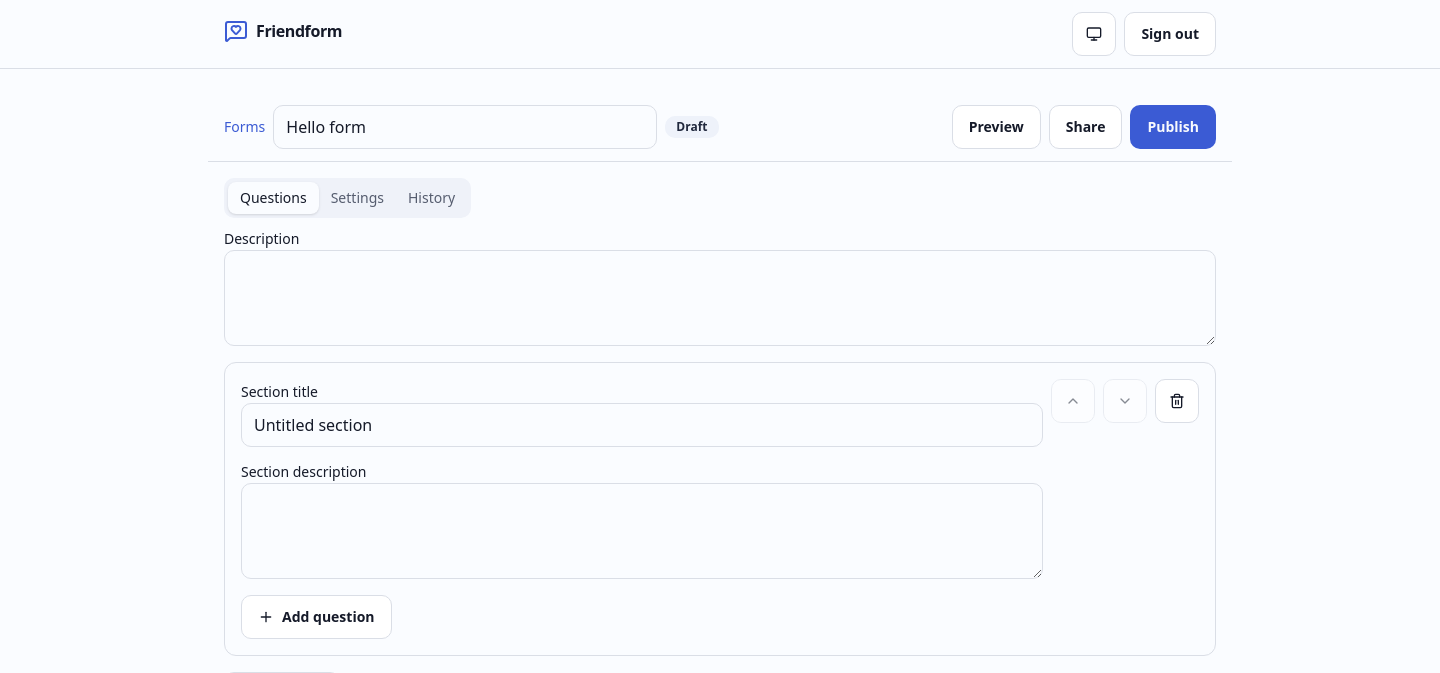
Scenario: SettingsTab document fill › disables document fill when AI is off
The image size is (1440, 673).
What coordinates should you click on to do the following:
click the tab "Settings"
I would click on:
 (357, 198)
Its box is 319,182 -> 396,214.
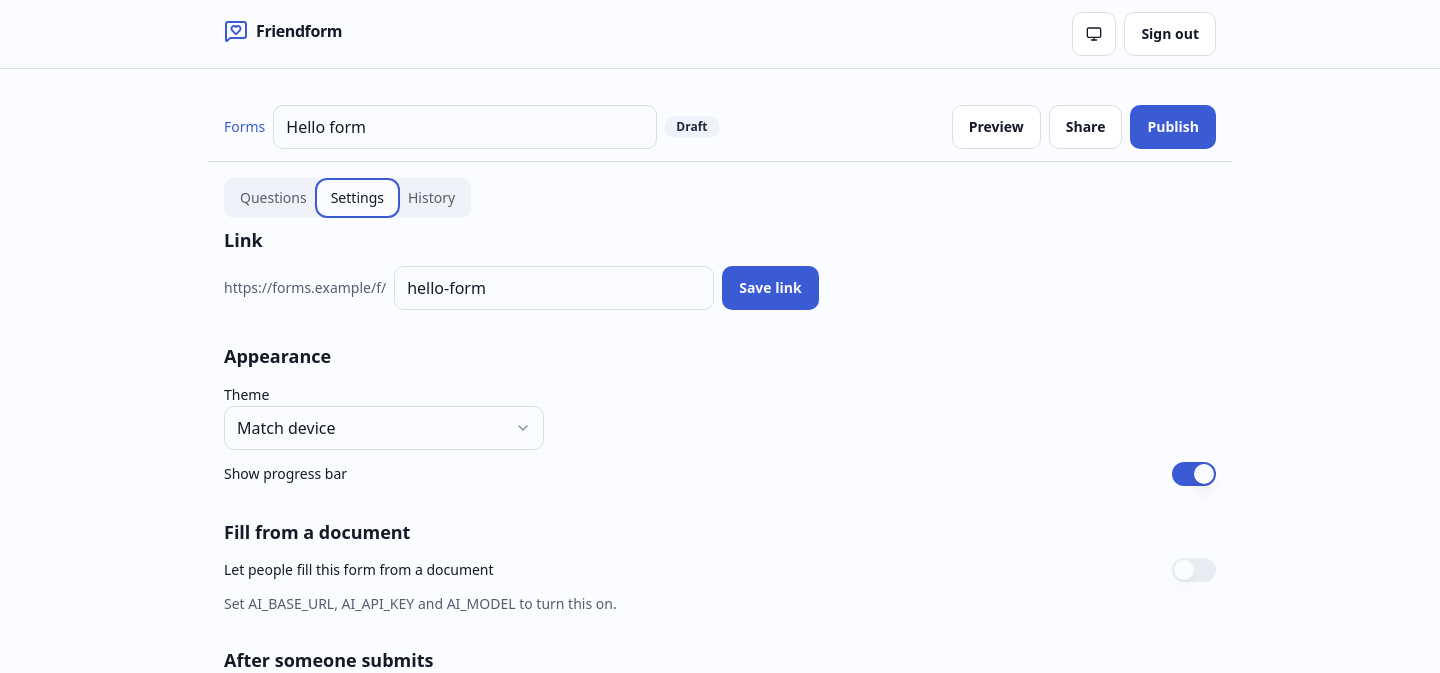
Expected: the text "Set AI_BASE_URL, AI_API_KEY and AI_MODEL to turn this on." is shown, 224,594 -> 617,613
